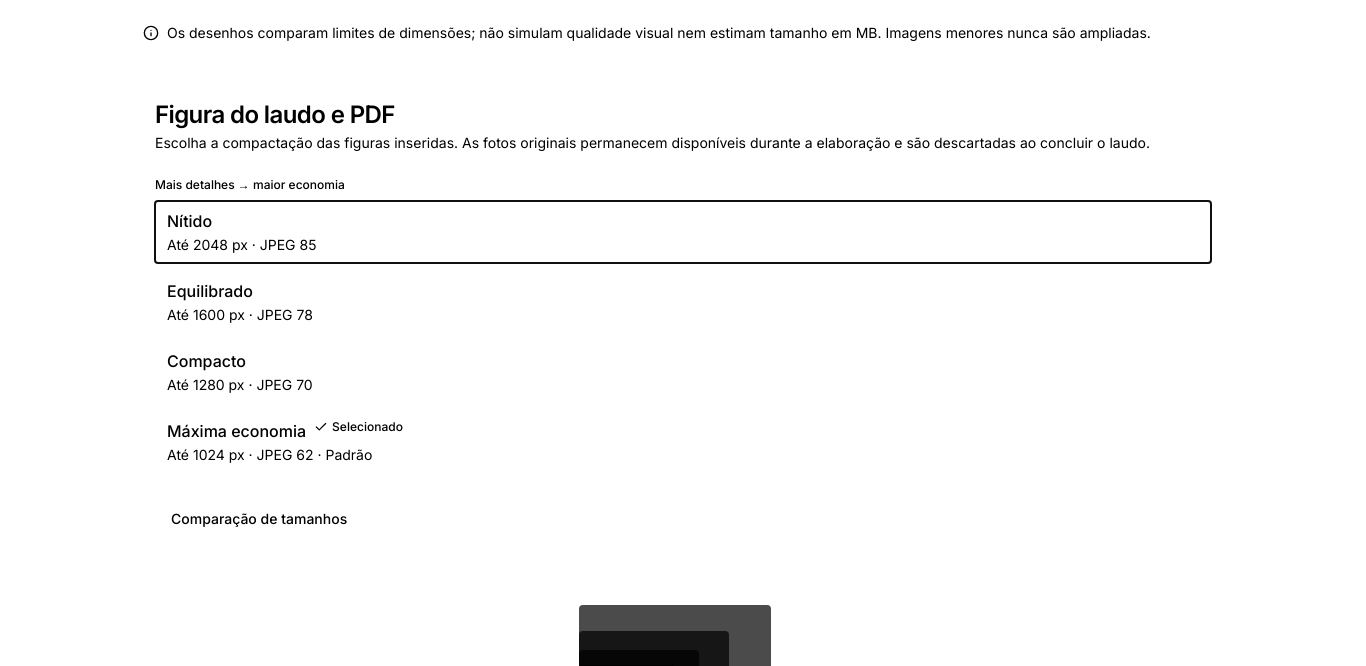
Test case: configurações de IA › mostra uma comparação sobreposta por grupo e destaca a escolha atual
Click the radio button labelled "Nítido Até 2048 px · JPEG 85". click: (190, 221)
box: [155,201,1211,263]
(page scrolled)
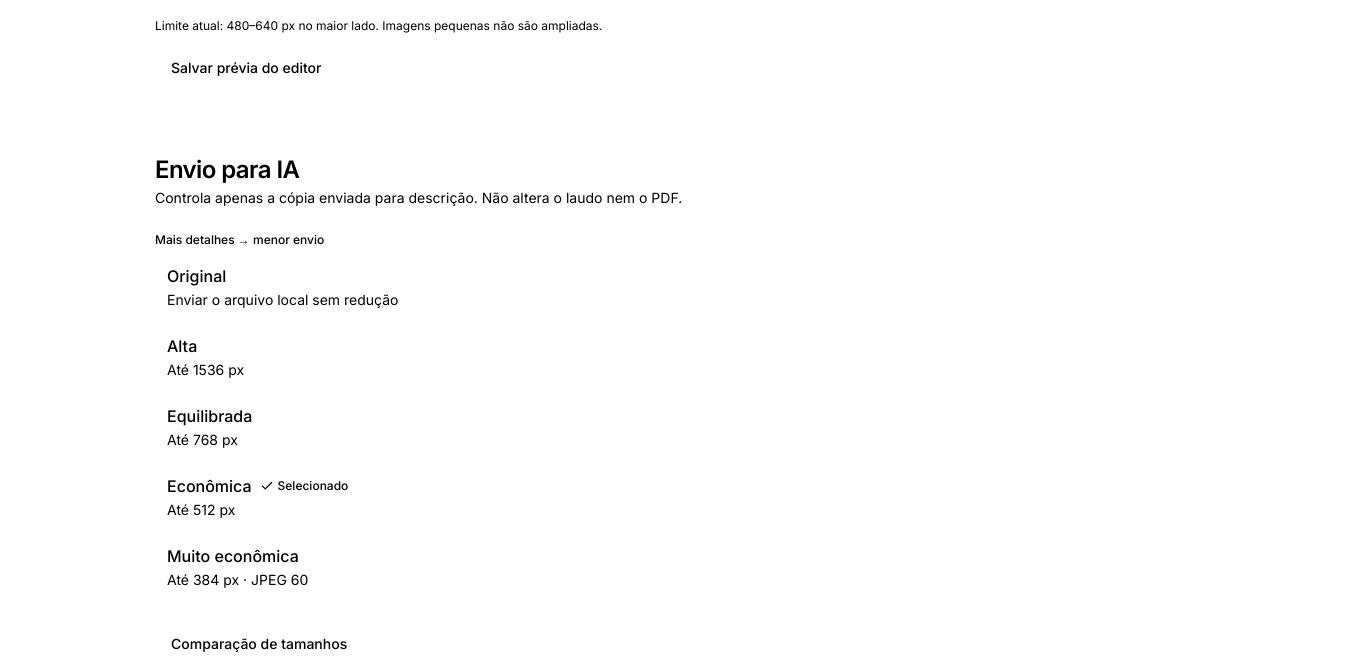
Click the radio button labelled "Original Enviar o arquivo local sem redução". click: (197, 276)
box: [155,256,1211,318]
(page scrolled)
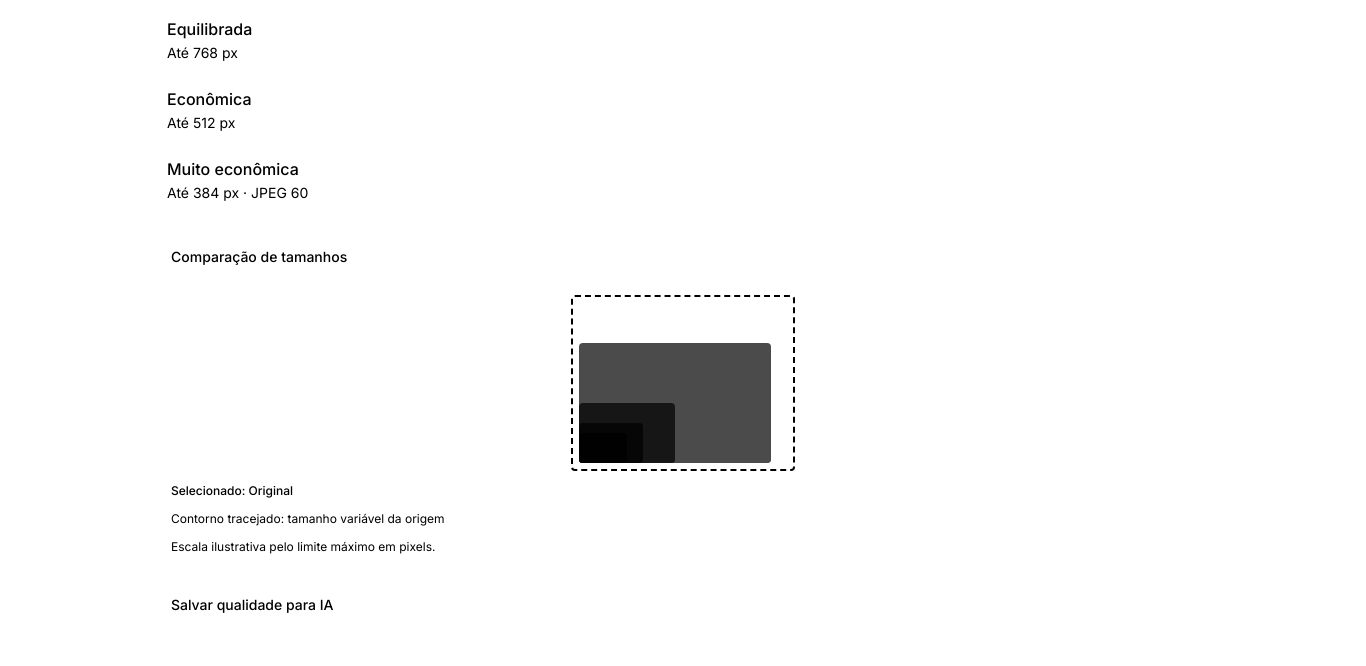
Now the picture named "Selecionado: Original, tamanho variável" is shown, box [171,248,795,554]
